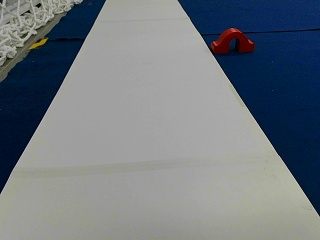bridge: (212, 27, 254, 52)
